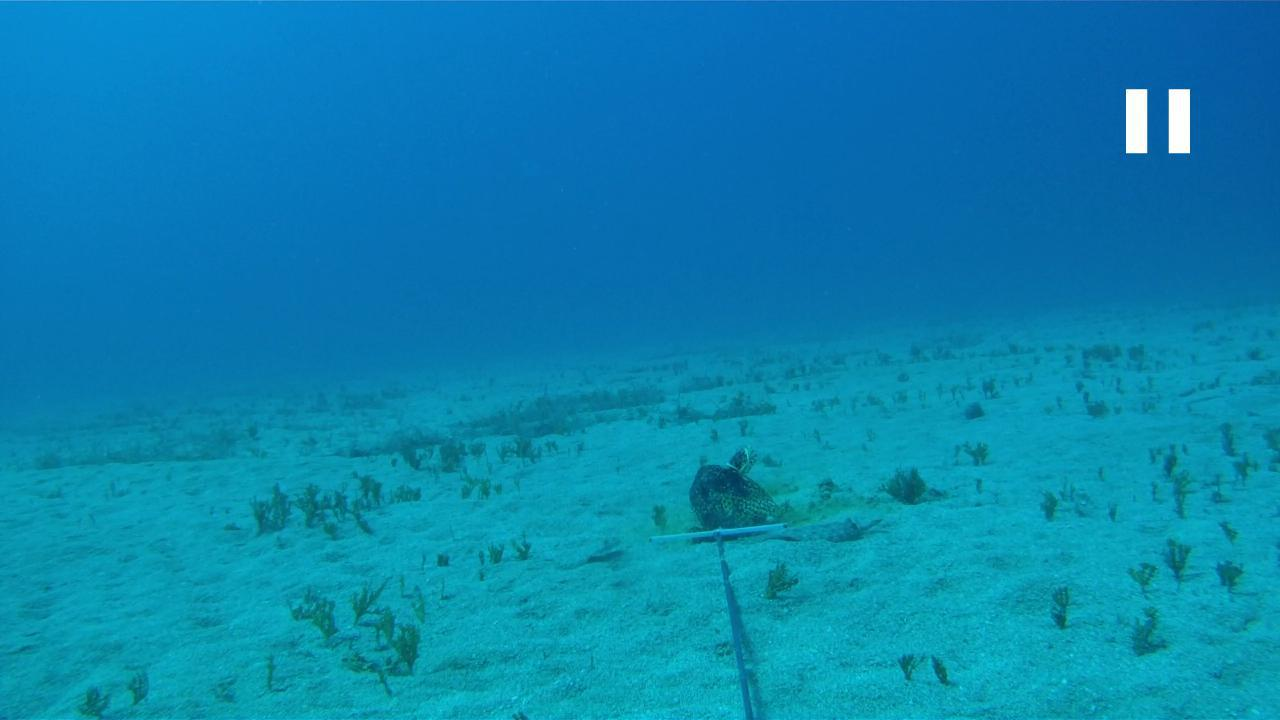bothus: (534, 524, 624, 573), (734, 516, 871, 545)
